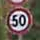limite 50: (5, 6, 32, 34)
